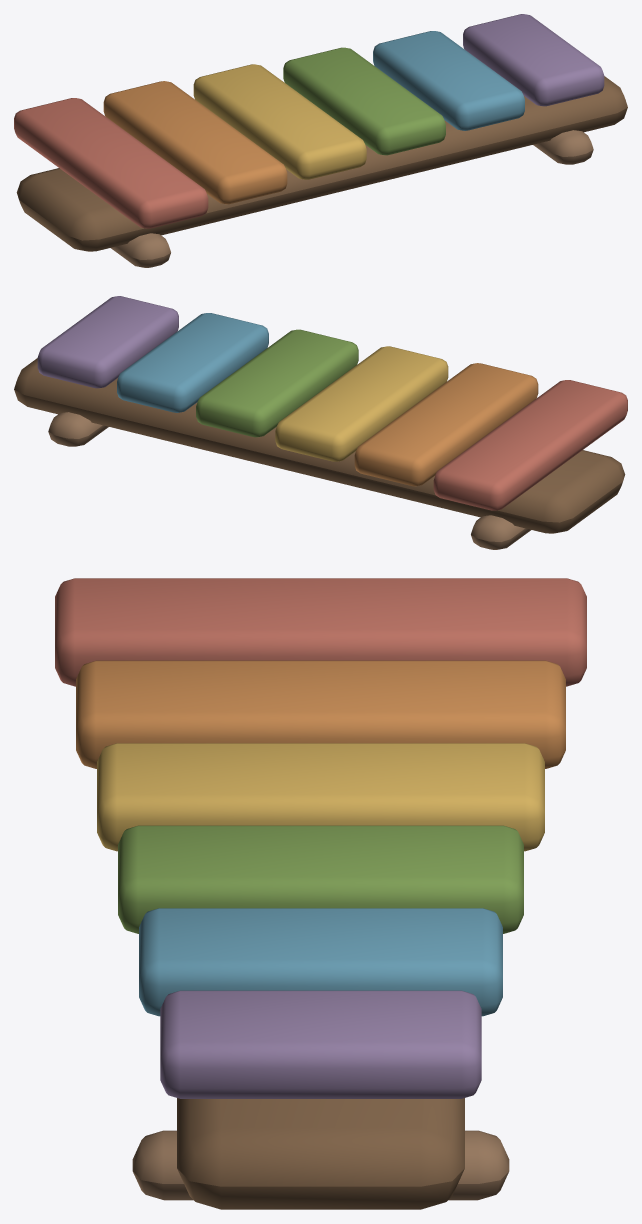
File: xylophone.glb
The picture shows the model from 3 angles, top to bottom: view 1: azimuth 30°, elevation 25°; view 2: azimuth 150°, elevation 25°; view 3: azimuth 270°, elevation 25°; orthographic projection. The views are drawn at different scales.
Parts seen in each view (by area): view 1: body, bar_0, bar_1, bar_2, bar_3, bar_4, bar_5; view 2: body, bar_0, bar_1, bar_2, bar_3, bar_4, bar_5; view 3: bar_0, bar_1, bar_2, body, bar_3, bar_5, bar_4.
Boxes of the visible parts, x1,y1,x2,y2 form: body: [16, 76, 627, 267]; bar_0: [14, 98, 208, 228]; bar_1: [103, 81, 287, 204]; bar_2: [193, 64, 366, 179]; bar_3: [283, 47, 445, 155]; bar_4: [373, 31, 524, 130]; bar_5: [463, 14, 604, 106]; body: [14, 358, 625, 549]; bar_0: [433, 380, 627, 510]; bar_1: [354, 363, 538, 486]; bar_2: [275, 346, 448, 461]; bar_3: [196, 329, 358, 437]; bar_4: [117, 313, 268, 412]; bar_5: [37, 296, 178, 388]; bar_0: [55, 578, 586, 686]; bar_1: [76, 660, 565, 768]; bar_2: [97, 743, 544, 851]; body: [132, 1098, 509, 1209]; bar_3: [118, 825, 523, 933]; bar_5: [160, 990, 481, 1098]; bar_4: [139, 908, 502, 1016].
Size of the model in its own units: 2.9 by 0.44 by 1.2.
